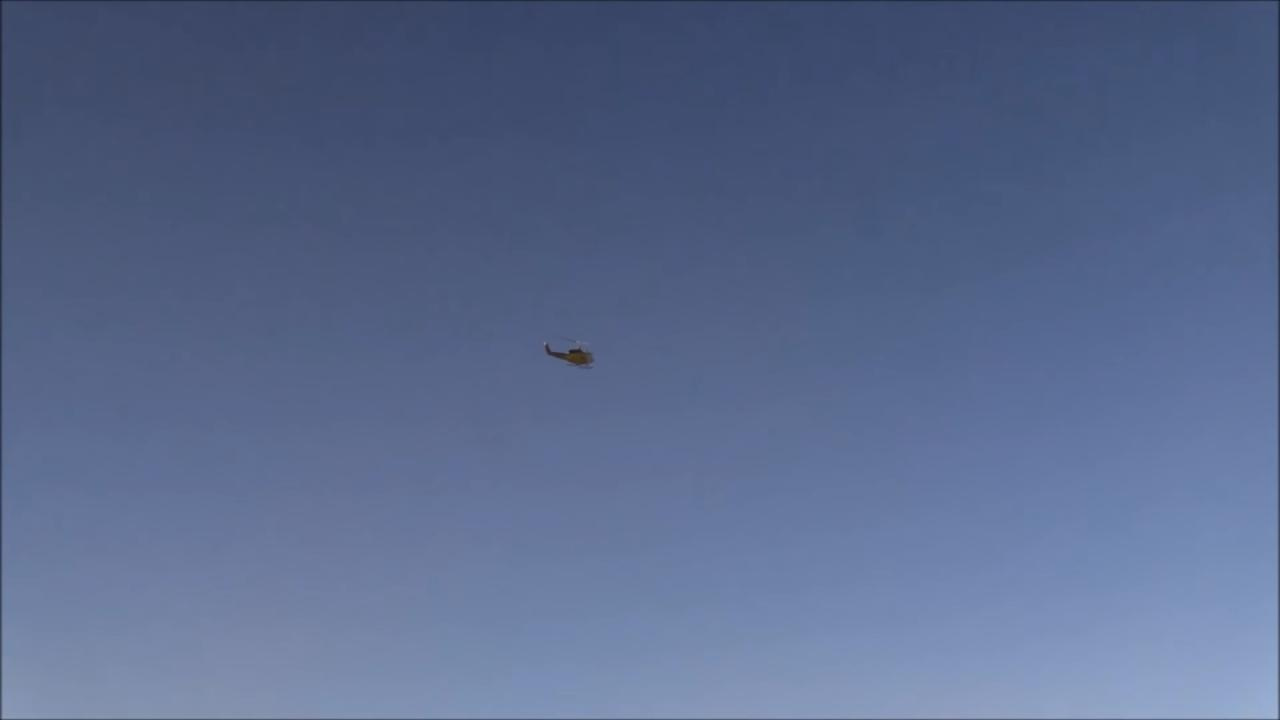Helicopter: (516, 314, 632, 393)
